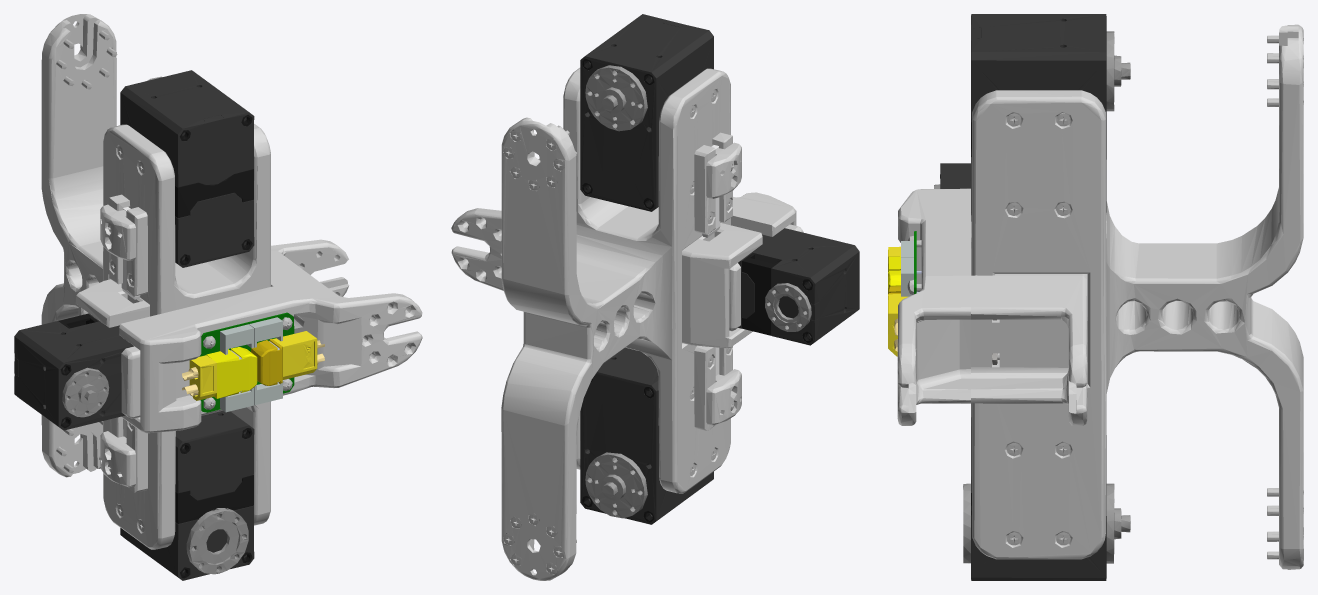
The model's file is link_body_01.obj.
3 renders of one model, left to right at view 1: azimuth 30°, elevation 25°; view 2: azimuth 150°, elevation 25°; view 3: azimuth 270°, elevation 25°, orthographic. The views are drawn at different scales.
Parts seen in each view (by area): view 1: link_body_01; view 2: link_body_01; view 3: link_body_01.
Part boxes in pixels (x1,y1,x2,y2): link_body_01: (14, 14, 422, 580); link_body_01: (451, 14, 859, 580); link_body_01: (888, 14, 1303, 580).
Size of the model in its own units: 152 by 192 by 135.
